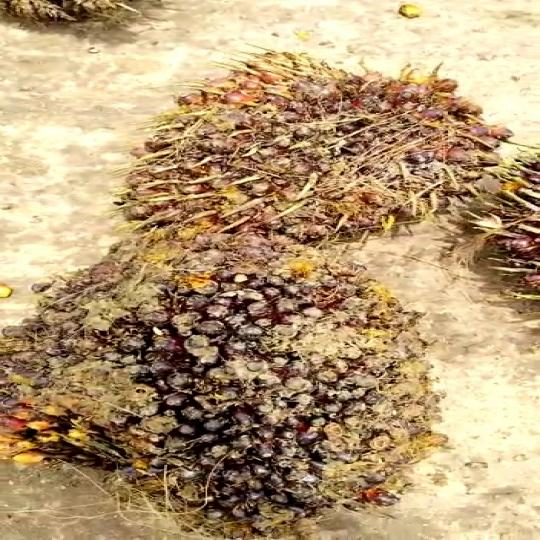kurang masak: (0, 221, 485, 540), (106, 50, 500, 251)
